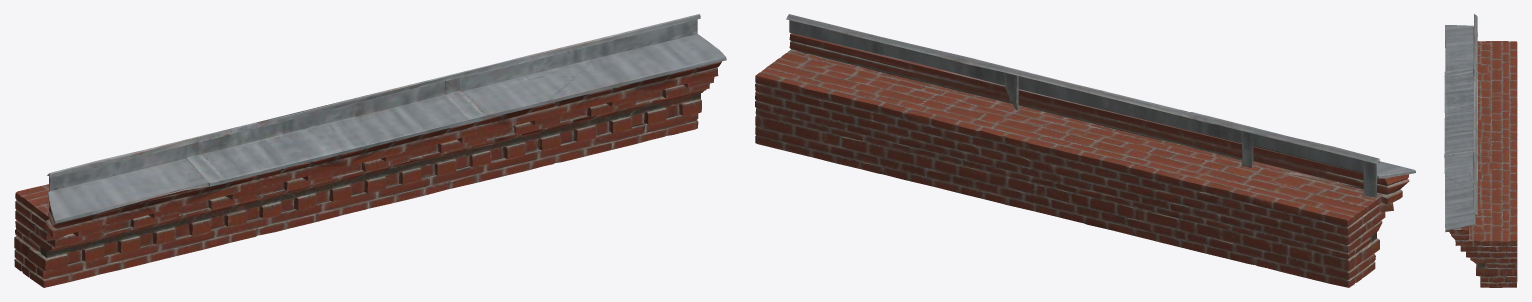
The model's file is familok_cornice_segment.glb.
3 renders of one model, left to right at view 1: azimuth 30°, elevation 25°; view 2: azimuth 150°, elevation 25°; view 3: azimuth 270°, elevation 25°, orthographic. The views are drawn at different scales.
Parts seen in each view (by area): view 1: main; view 2: main; view 3: main.
Part boxes in pixels (x1,y1,x2,y2): main: (14, 14, 726, 287); main: (755, 14, 1415, 287); main: (1444, 14, 1517, 287).
Size of the model in its own units: 2 by 0.3398 by 0.3003.
Materials: 1 (1 with a texture image).
